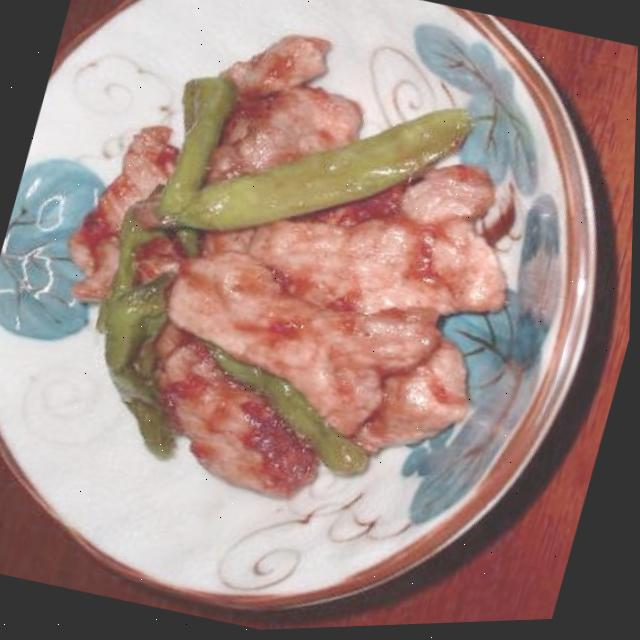猪肉菜式: (12, 0, 561, 566)
